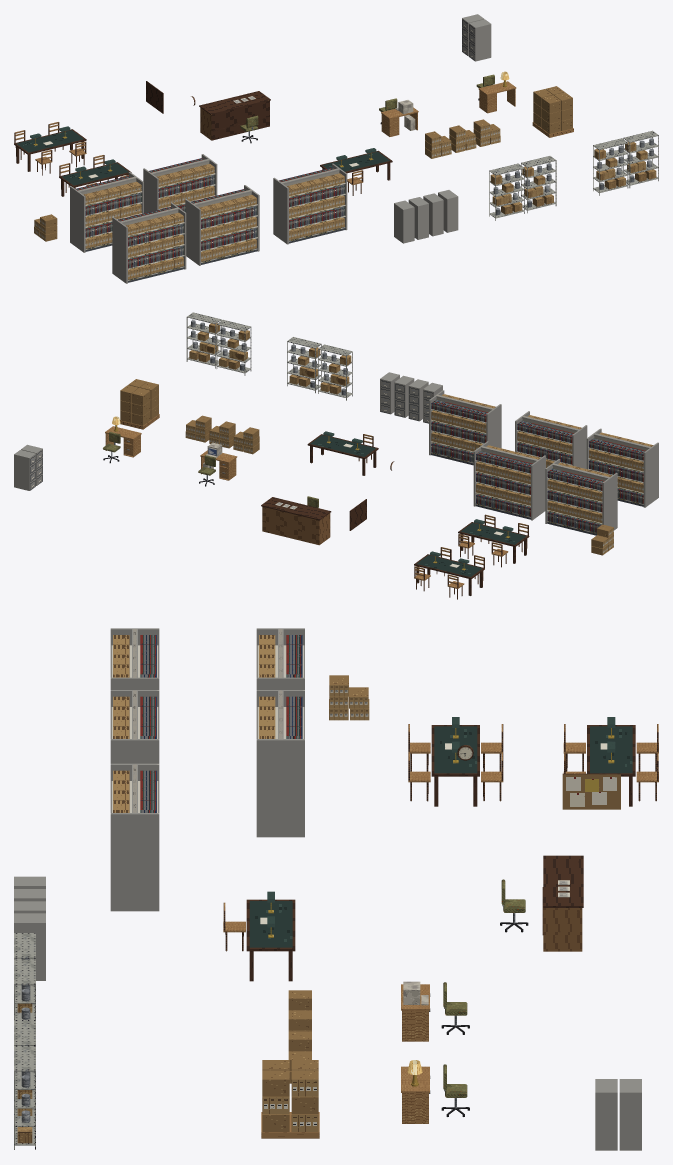
File: COM_MunicipalArchive_Furnishing.glb
3 views of the same model, one above another, from view 1: azimuth 30°, elevation 25°; view 2: azimuth 150°, elevation 25°; view 3: azimuth 270°, elevation 25° (orthographic). The views are drawn at different scales.
Visible parts, largest first — view 1: COM_MunicipalArchive_Furnishing_Mesh; view 2: COM_MunicipalArchive_Furnishing_Mesh; view 3: COM_MunicipalArchive_Furnishing_Mesh.
Part boxes in pixels (box(x1,y1,x2,y2)): COM_MunicipalArchive_Furnishing_Mesh: box(14, 14, 658, 283); COM_MunicipalArchive_Furnishing_Mesh: box(14, 312, 658, 599); COM_MunicipalArchive_Furnishing_Mesh: box(14, 628, 658, 1150).
Size of what is drawn, in the model's own units: 21.43 by 2.77 by 13.27.
Materials: 14 (14 with a texture image).
